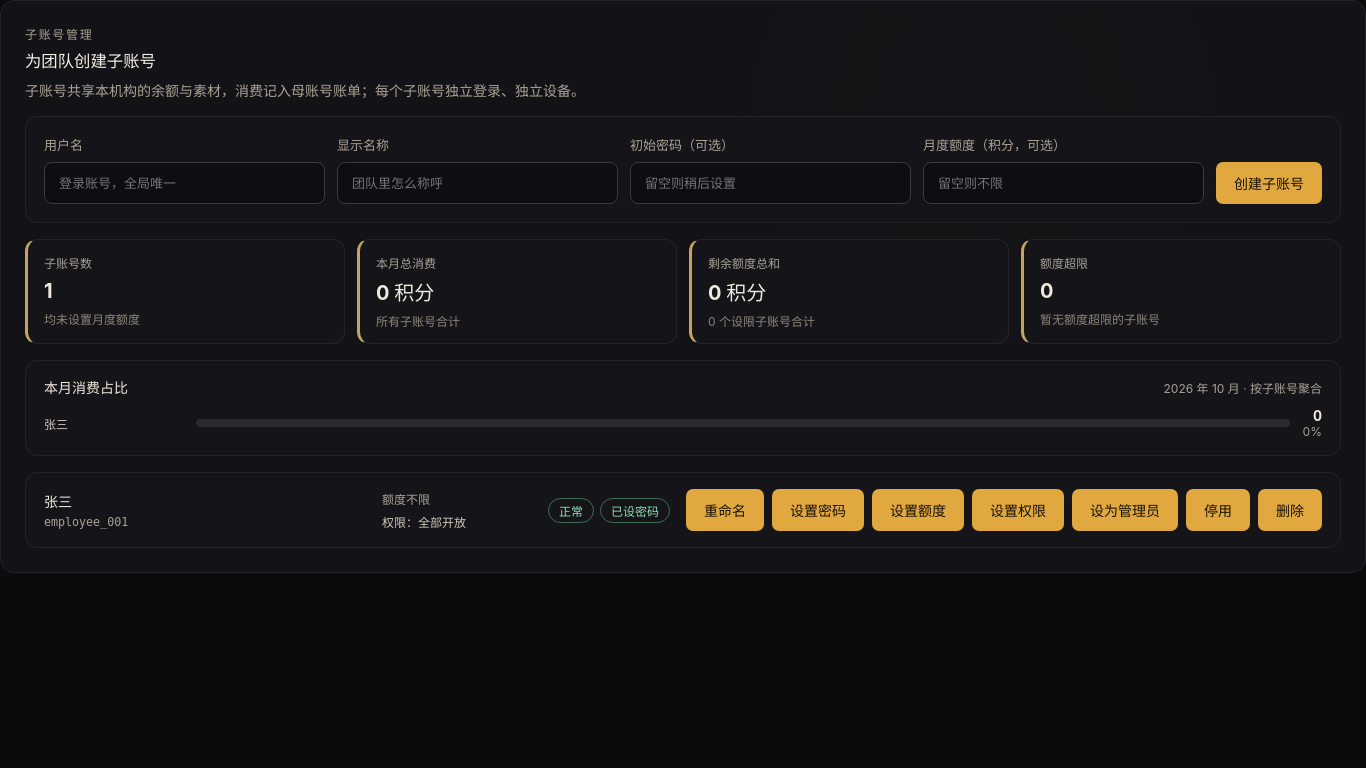
Test: SubAccountManagementPage › delete degrades to deactivation with an explicit notice when history pins the row
Expected: the text "张三" next to "额度不限" is shown, left=44, top=493, right=72, bottom=510
Step 1. Click the button "删除" → (1290, 510), box left=1258, top=489, right=1322, bottom=531
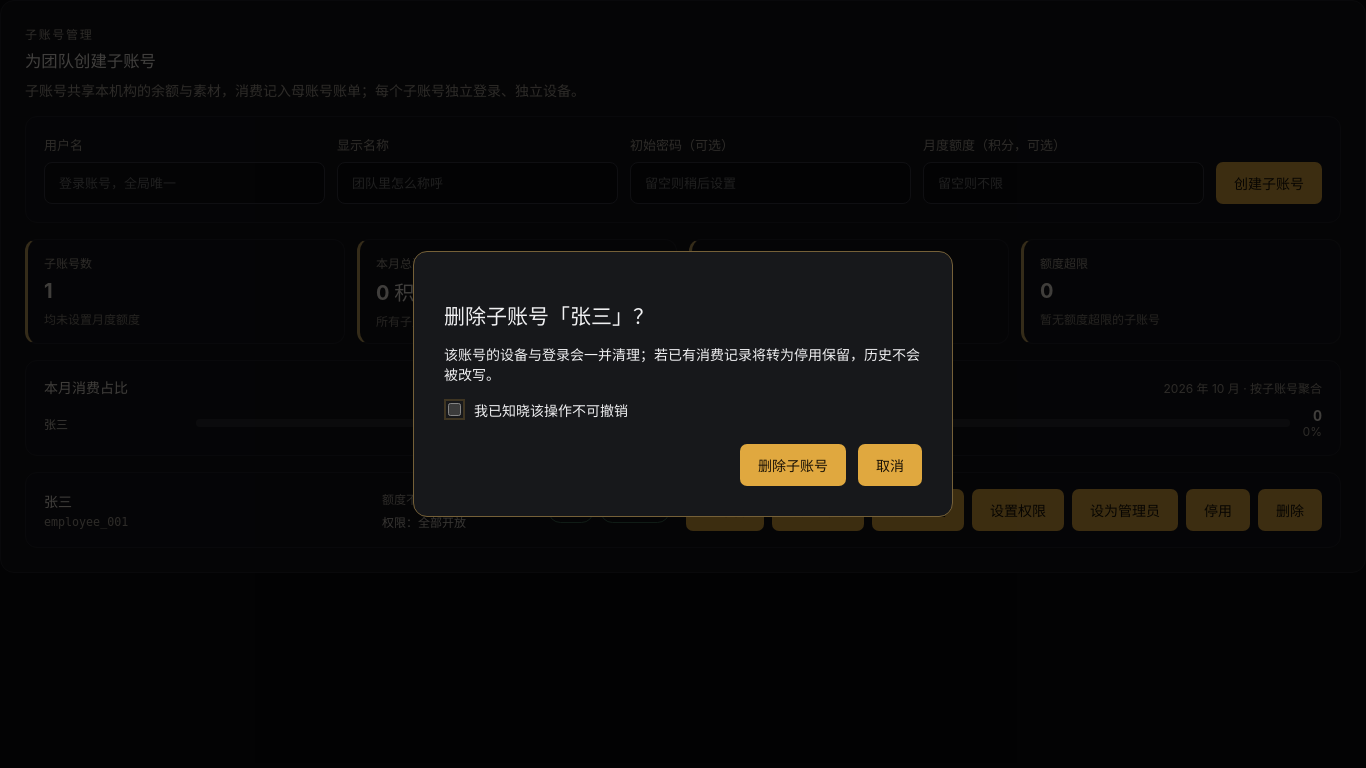
Step 2. Click the checkbox → (454, 410), box left=448, top=403, right=461, bottom=416
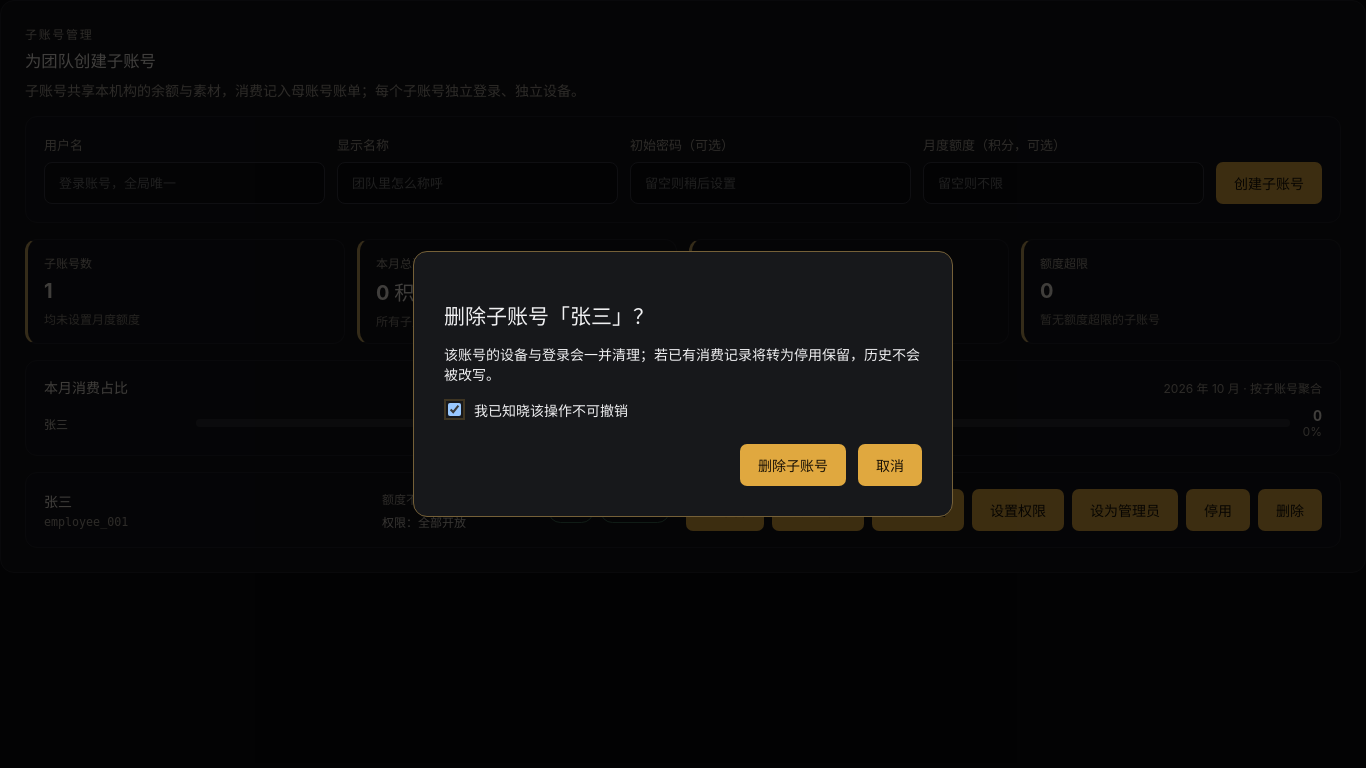
Step 3. Click the button "删除子账号" → (793, 465), box left=740, top=444, right=846, bottom=486
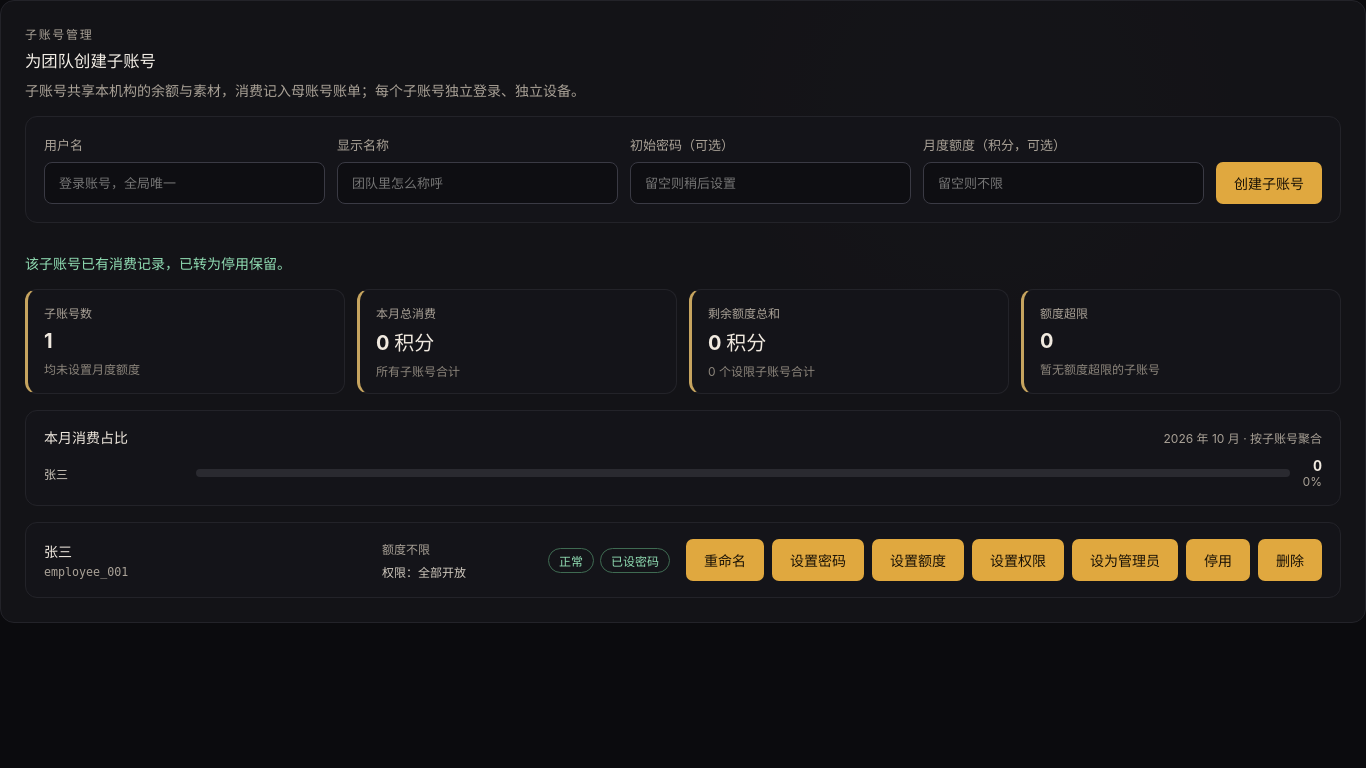
Result: the text "该子账号已有消费记录，已转为停用保留。" is shown at left=25, top=255, right=291, bottom=272
